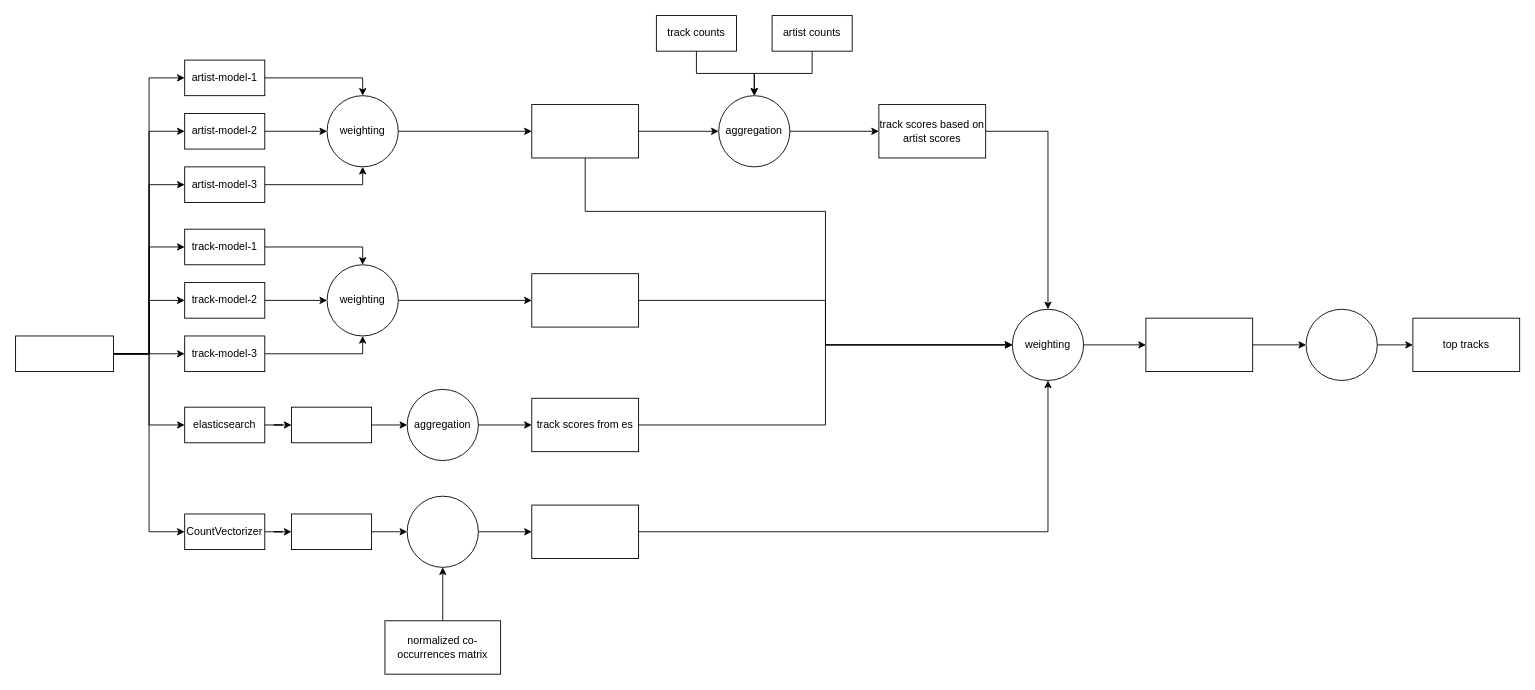
This 1535x690 diagram has some shape labels left out. The centre of each missing label's shape, as x and y in pixels:
"artist scores" belongs at [585,131].
"blended track scores" belongs at [1199,344].
"counts" belongs at [331,531].
"matmul" belongs at [442,531].
"query tracks" belongs at [64,353].
"similar users" belongs at [331,424].
"top-k" belongs at [1341,344].
"track scores" belongs at [585,300].
"track scores based on co-occurrences" belongs at [585,531].
